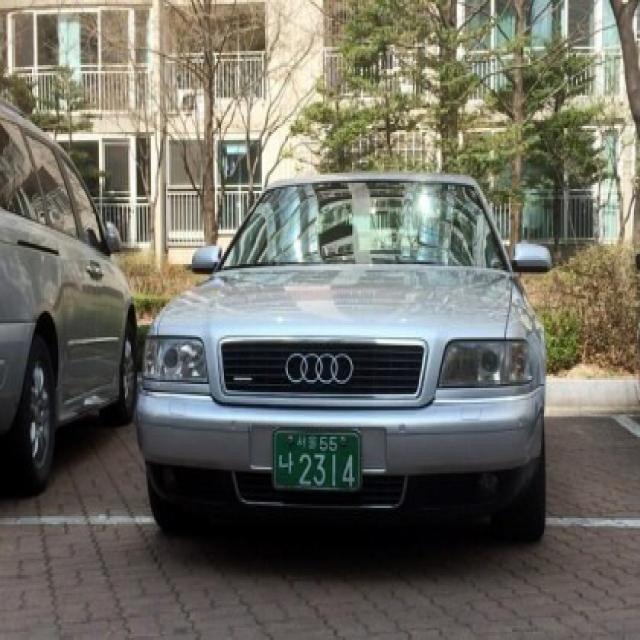car: (132, 168, 550, 553)
illegal_plate: (271, 427, 364, 497)
